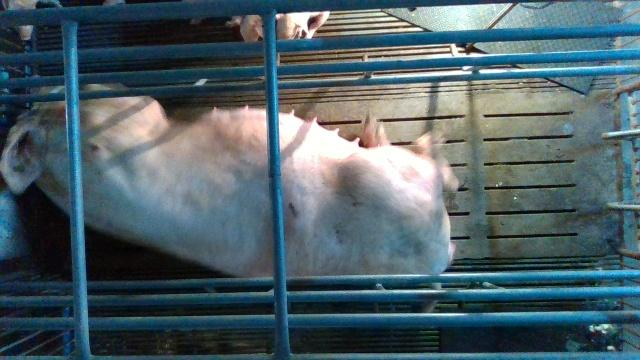piglet: (1, 0, 45, 42), (275, 9, 330, 41), (226, 13, 265, 43)
sow-sleep-lactate: (1, 72, 458, 312)
